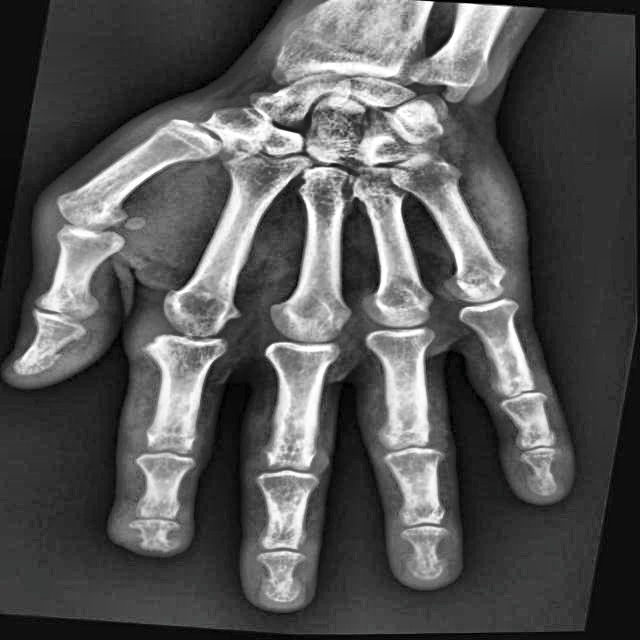Comminuted: (109, 508, 199, 563)
